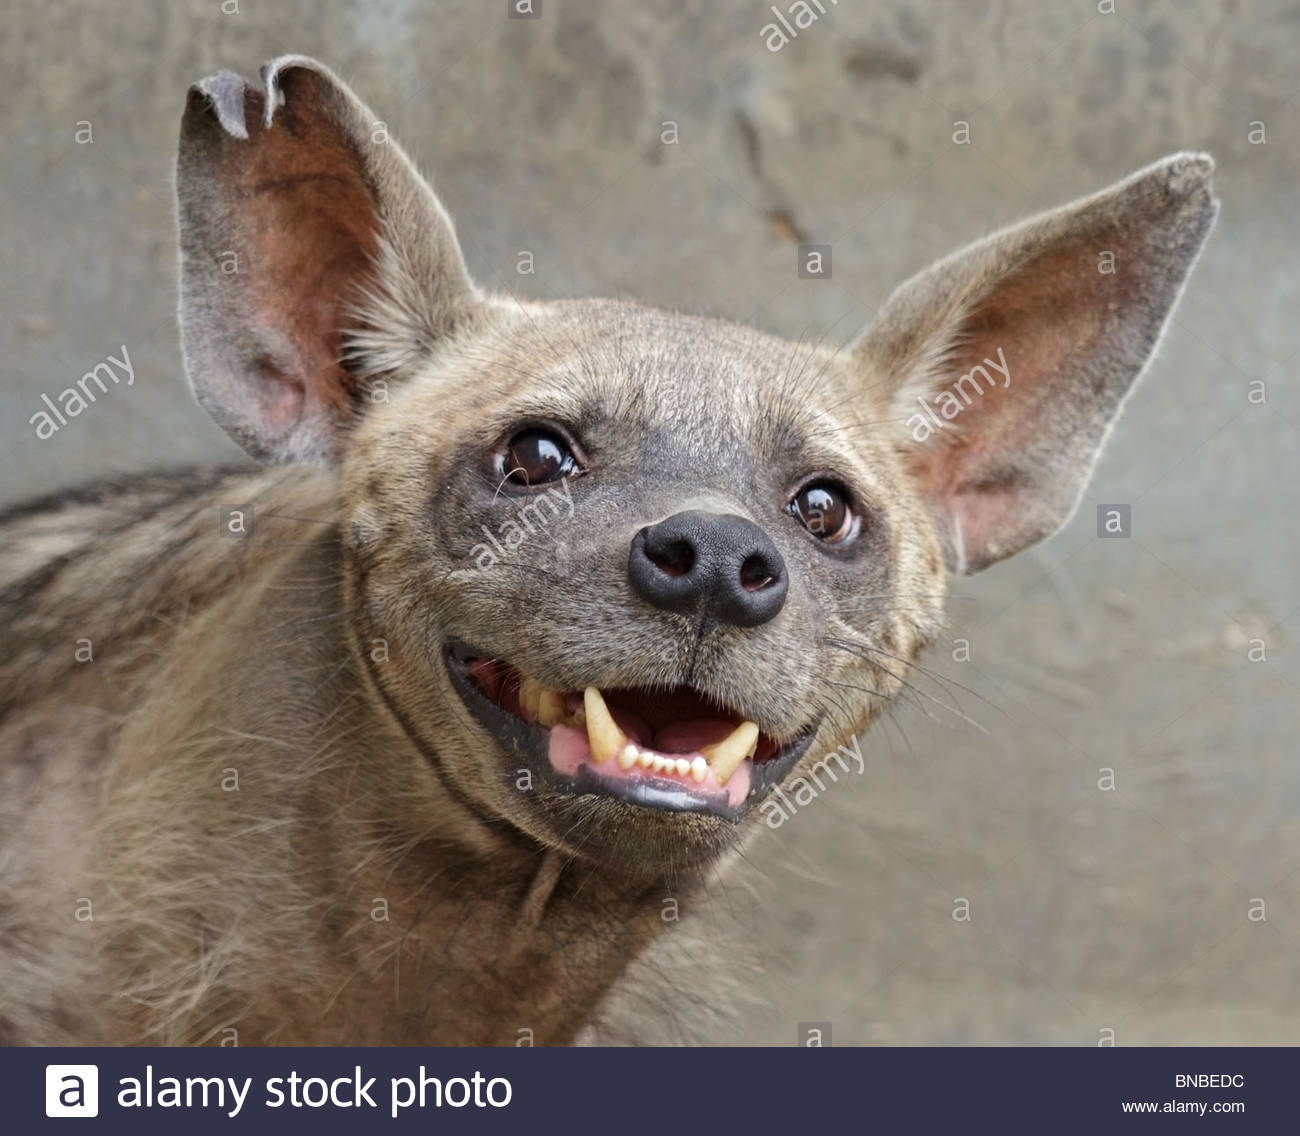hyena: (1, 71, 1216, 1034)
